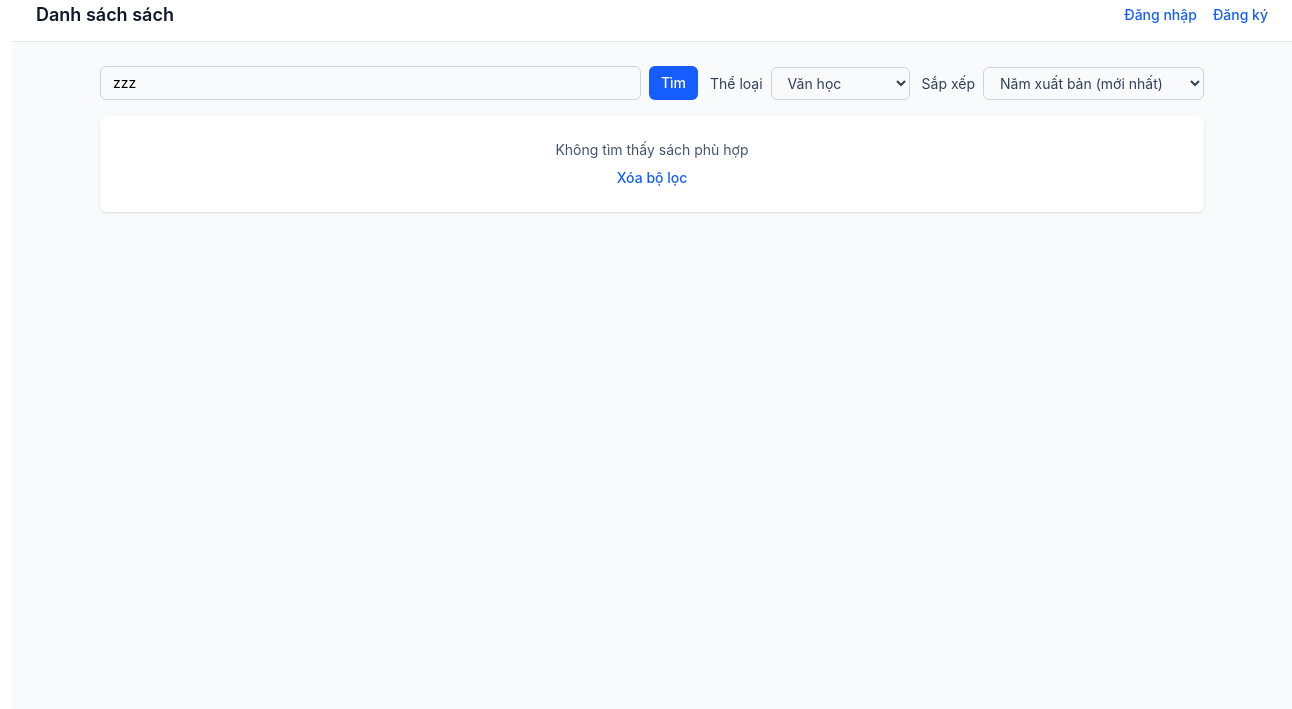
Test: BooksPage (2.2.3) › không có kết quả khi đang lọc → thông báo + nút xóa bộ lọc (giữ sắp xếp)
The width and height of the screenshot is (1292, 709).
Expected: the message shows "Không tìm thấy sách phù hợp", [555,141,748,158]
Click the button "Xóa bộ lọc" at point(652, 178), box [617,168,687,188]
(page scrolled)
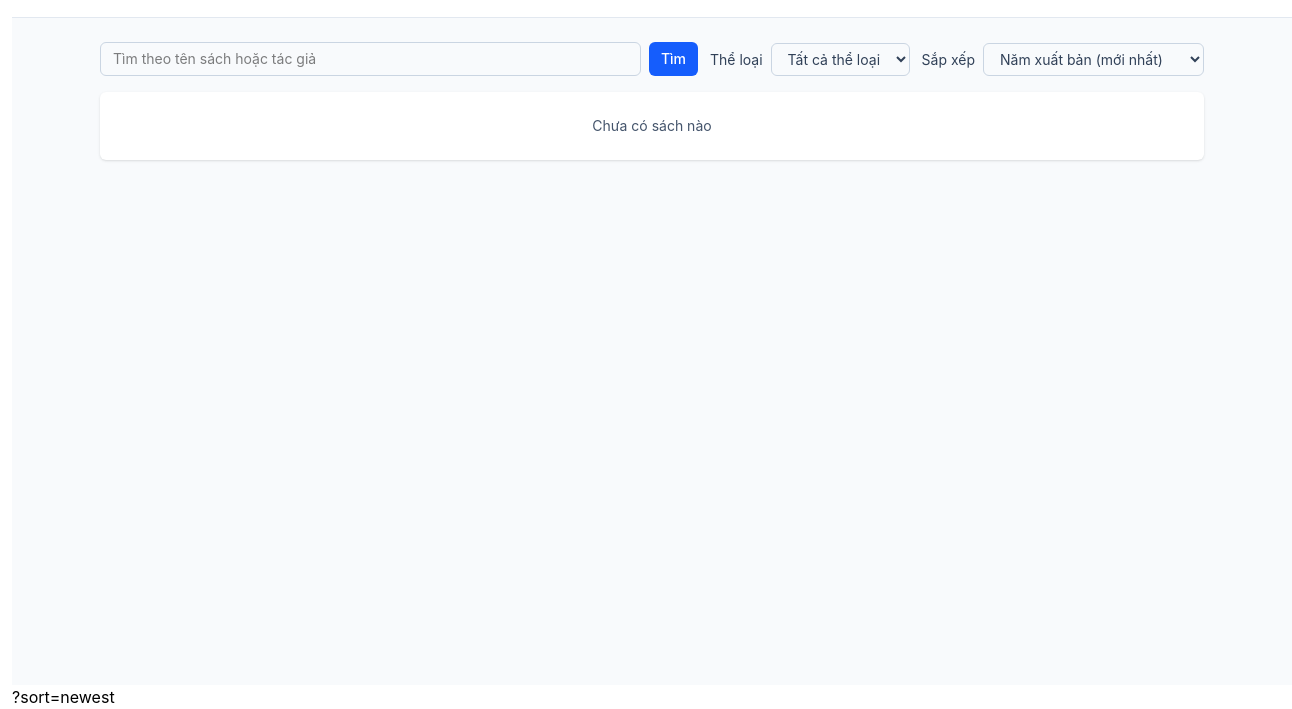
Expected: the text with test id "location" reads "?sort=newest", [12,687,115,707]
